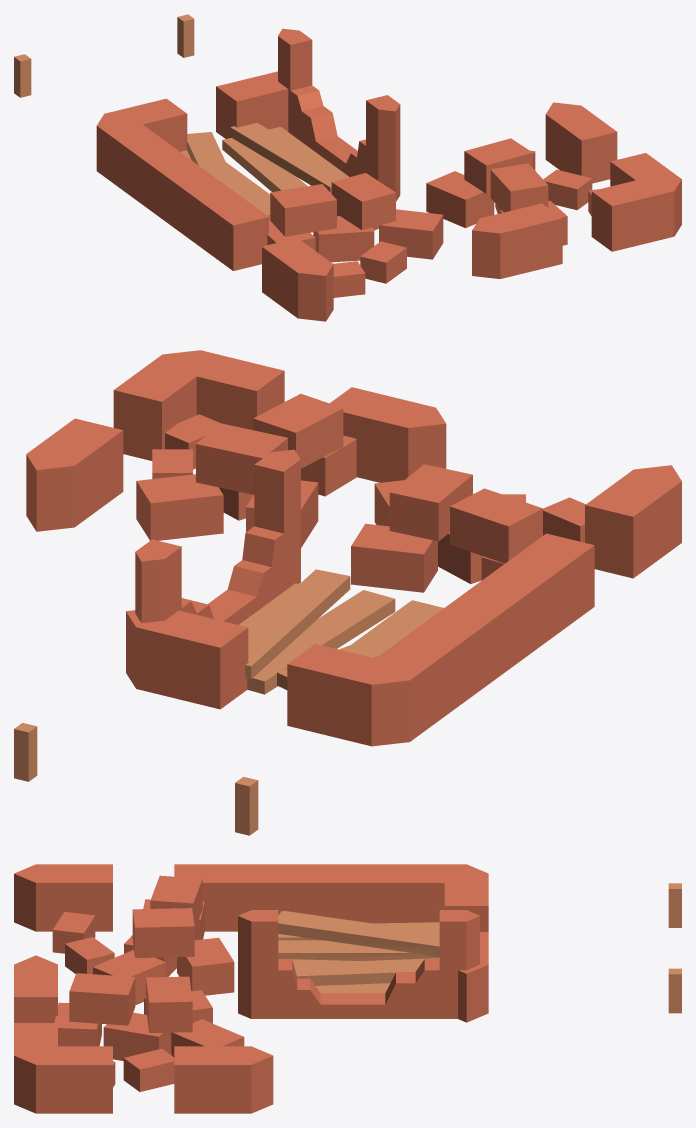
Rendered from Casa 6 Rota.obj.
3 renders of one model, top to bottom at view 1: azimuth 30°, elevation 25°; view 2: azimuth 150°, elevation 25°; view 3: azimuth 270°, elevation 25°, orthographic. The views are drawn at different scales.
Bounding box in the file's own units: 2.21 × 0.5 × 3.1.
